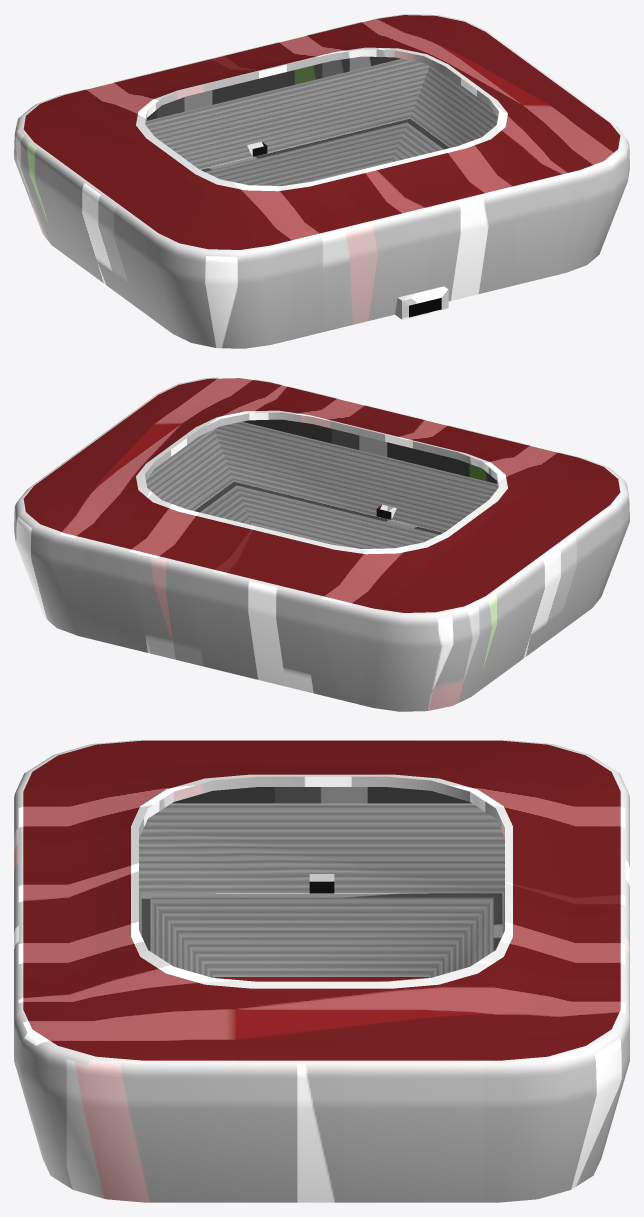
Rendered from stadium_night.glb.
3 renders of one model, top to bottom at view 1: azimuth 30°, elevation 25°; view 2: azimuth 150°, elevation 25°; view 3: azimuth 270°, elevation 25°, orthographic. The views are drawn at different scales.
Parts seen in each view (by area): view 1: stadium2; view 2: stadium2; view 3: stadium2.
Part boxes in pixels (<box>): stadium2: <box>14,14,629,348</box>; stadium2: <box>14,377,629,711</box>; stadium2: <box>14,740,629,1202</box>.
Bounding box in the file's own units: 4.7 × 1.17 × 3.74.
6 materials, 3 textured.
